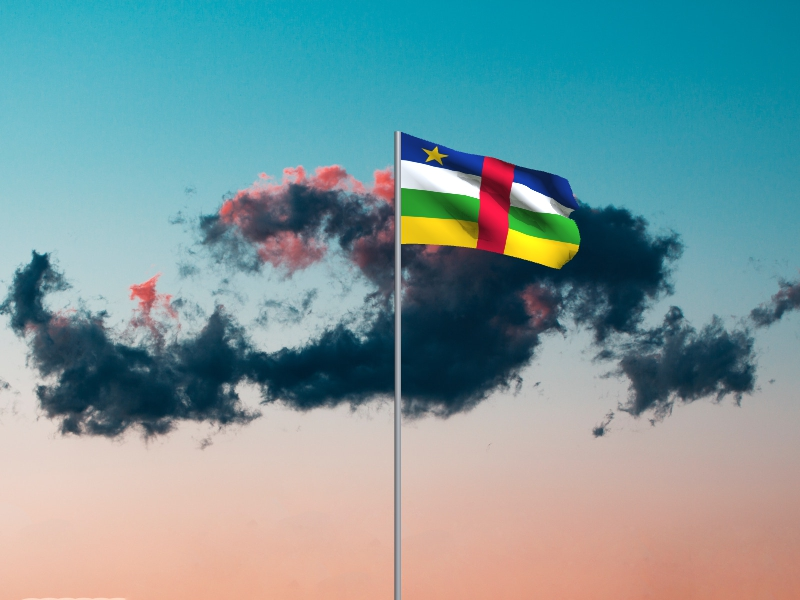cf: (402, 133, 582, 271)
